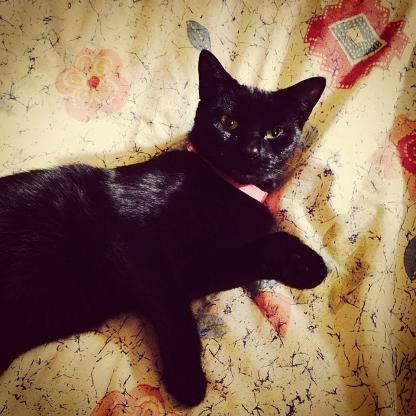Cat: (0, 49, 327, 407)
